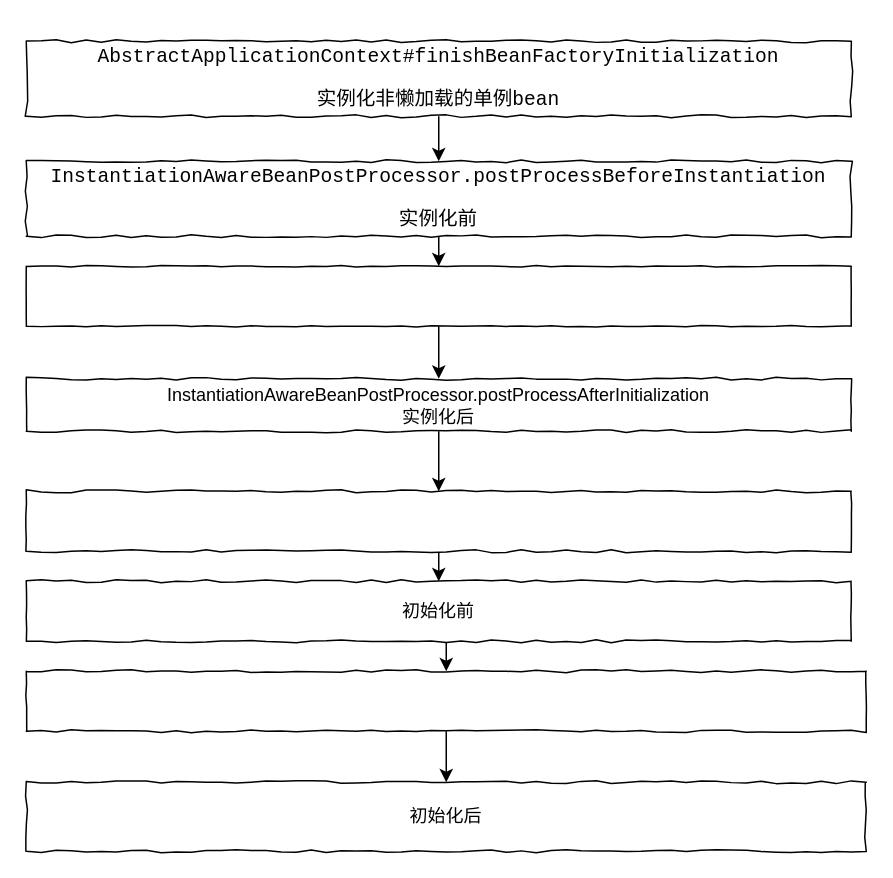
Image size: 893x878. Some labels were removed from this diagram. The centre of each missing label's shape, as x and y in pixels:
"初始化" goes at point 445,700.
"实例化" goes at point 438,295.
"属性赋值（spring自带的依赖注入）" goes at point 438,520.
